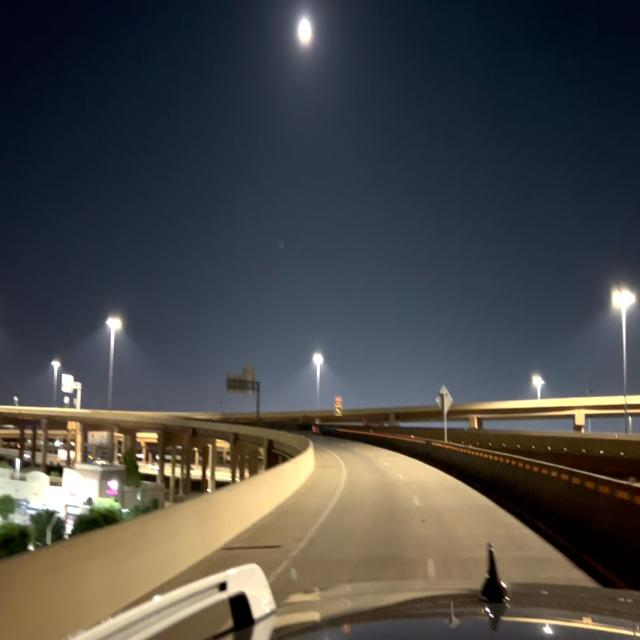back-of-sign: (436, 383, 453, 416)
